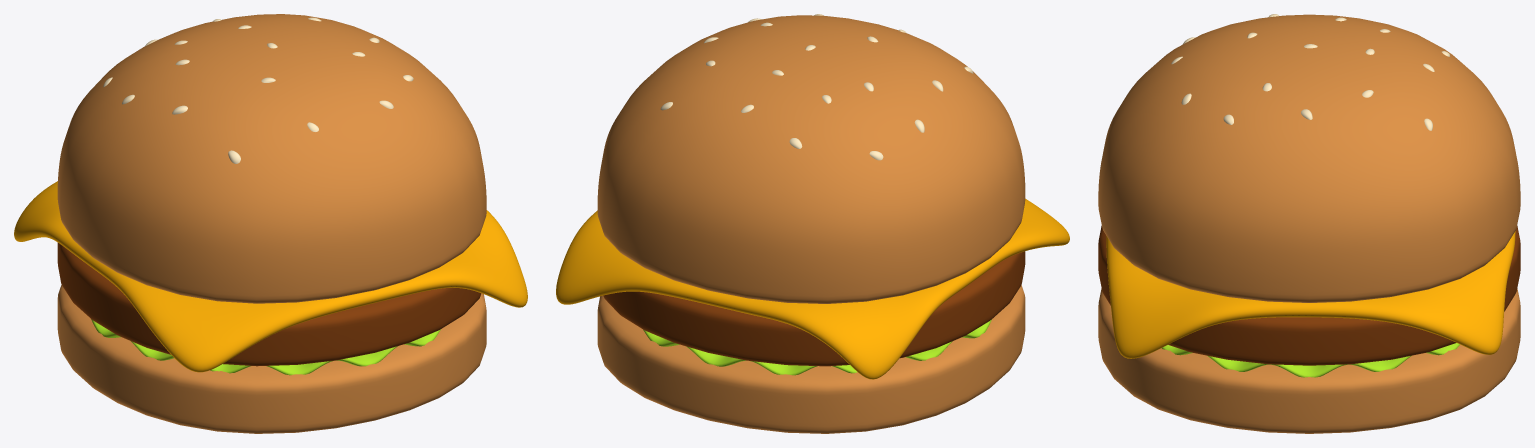
Rendered from burger steak lettuce cheese.glb.
The picture shows the model from 3 angles, left to right: view 1: azimuth 30°, elevation 25°; view 2: azimuth 150°, elevation 25°; view 3: azimuth 270°, elevation 25°; orthographic projection.
Visible parts, largest first — view 1: burger steak salade fromage; view 2: burger steak salade fromage; view 3: burger steak salade fromage.
Part boxes in pixels (box(x1,y1,x2,y2)): burger steak salade fromage: box(14, 14, 527, 433); burger steak salade fromage: box(556, 14, 1069, 433); burger steak salade fromage: box(1098, 14, 1520, 433).
Size of the model in its own units: 1.31 by 1.07 by 1.31.
